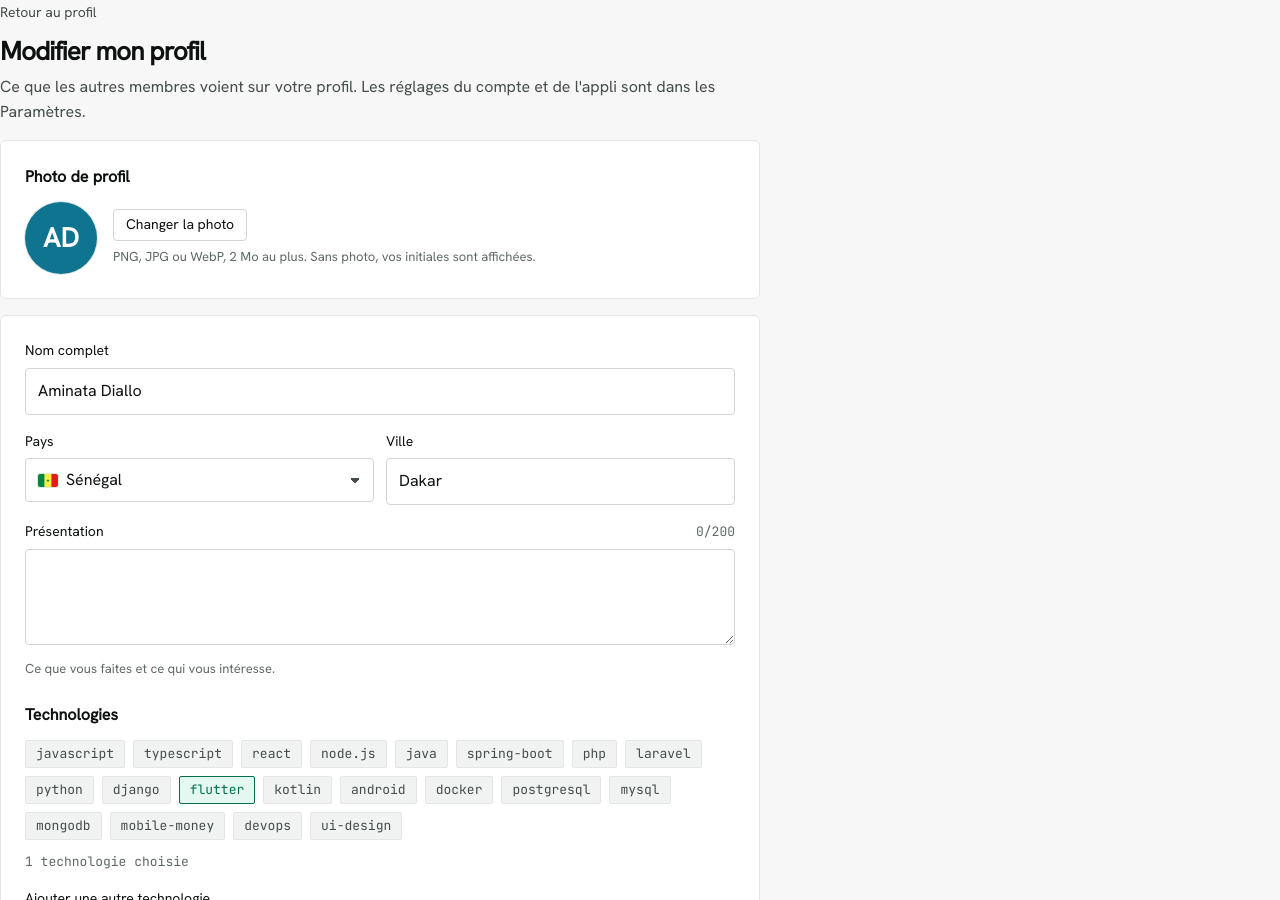
Scenario: ProfileEditPage › enregistre le profil, pays compris, puis revient au profil public
The image size is (1280, 900).
In the text box labelled "Présentation": (380, 597) [25,549,735,645], type "Développeuse Flutter à Ouagadougou."
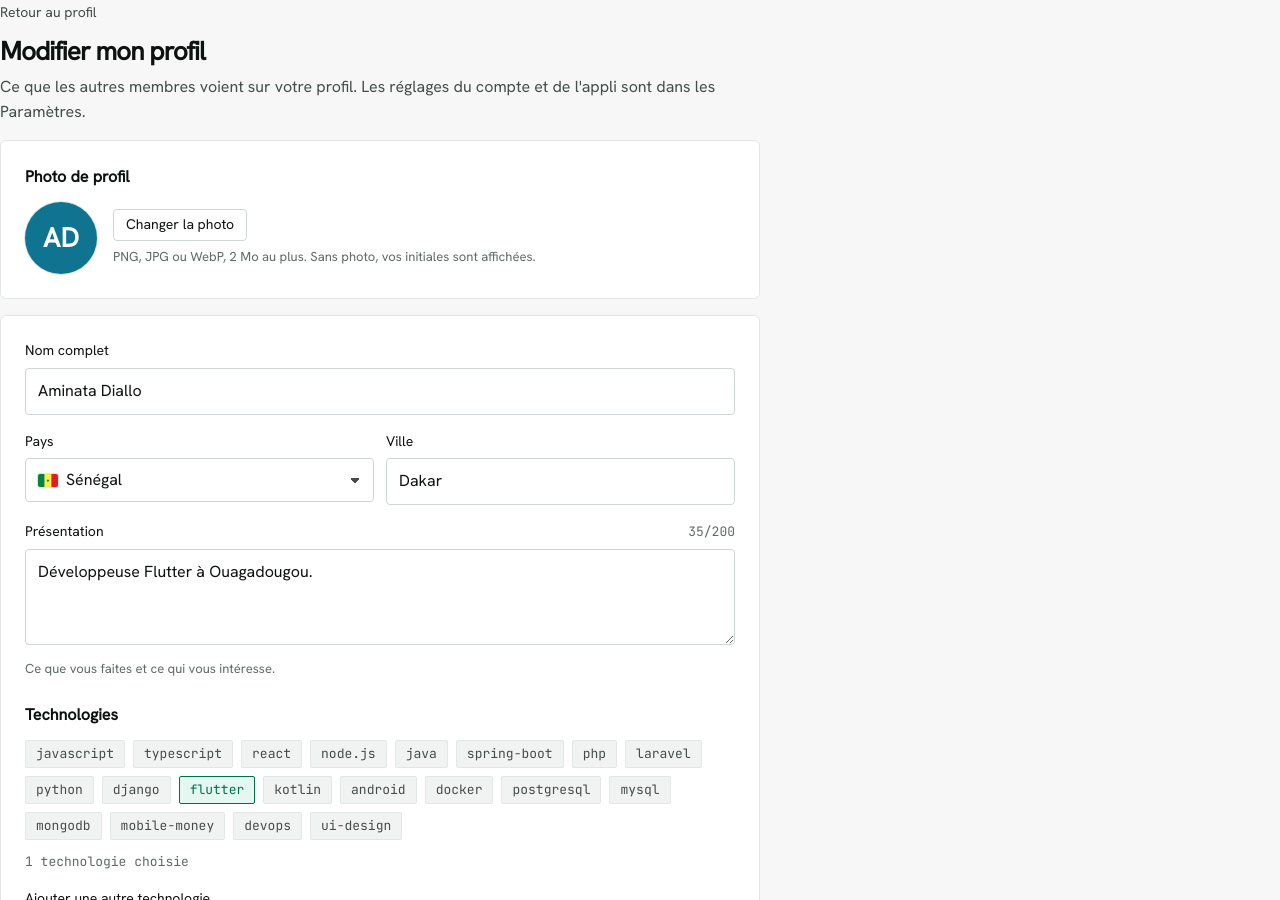
Click the dropdown named "Pays": (94, 480) [25,458,374,502]
(page scrolled)
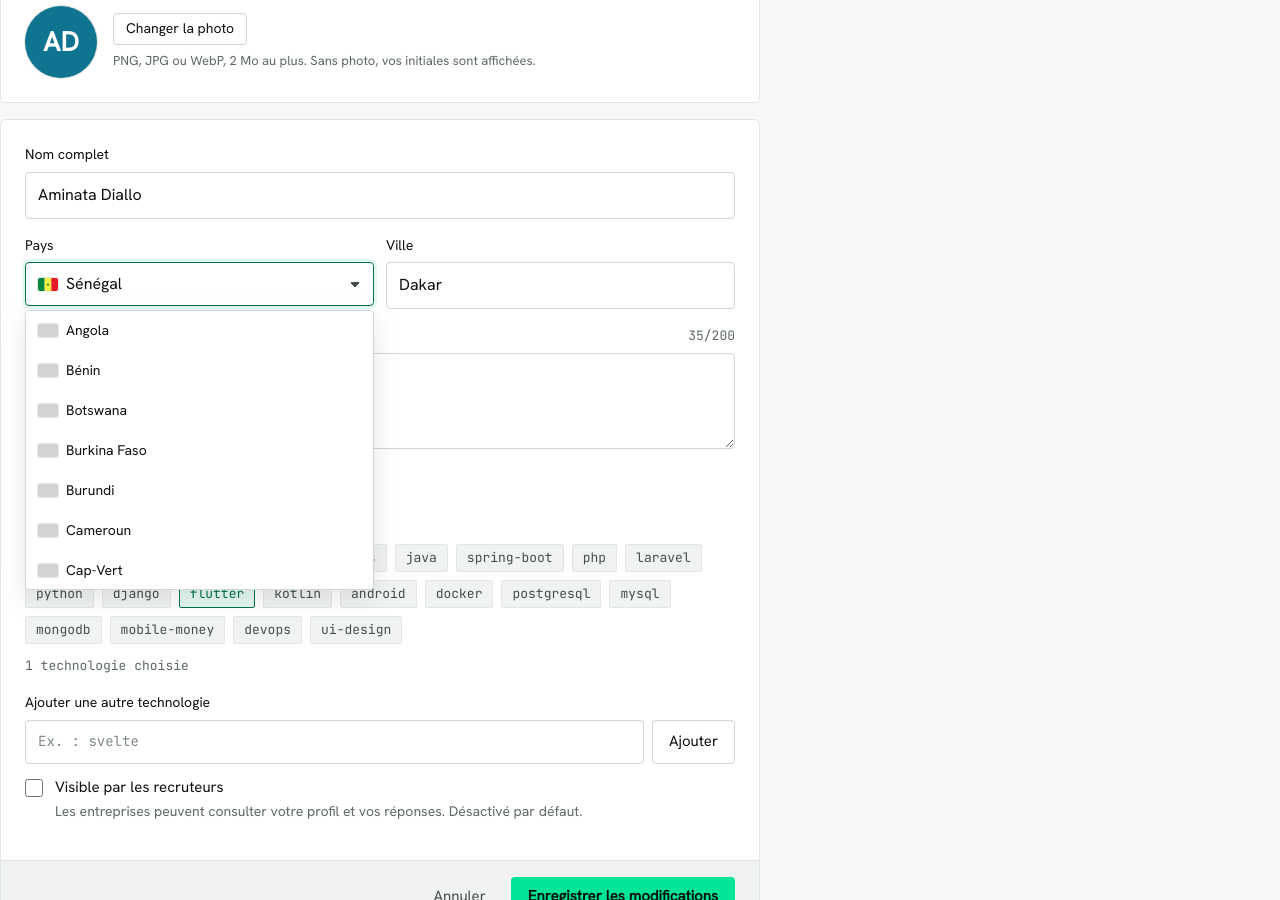
Click the option "Burkina Faso": (92, 450) [38,441,147,459]
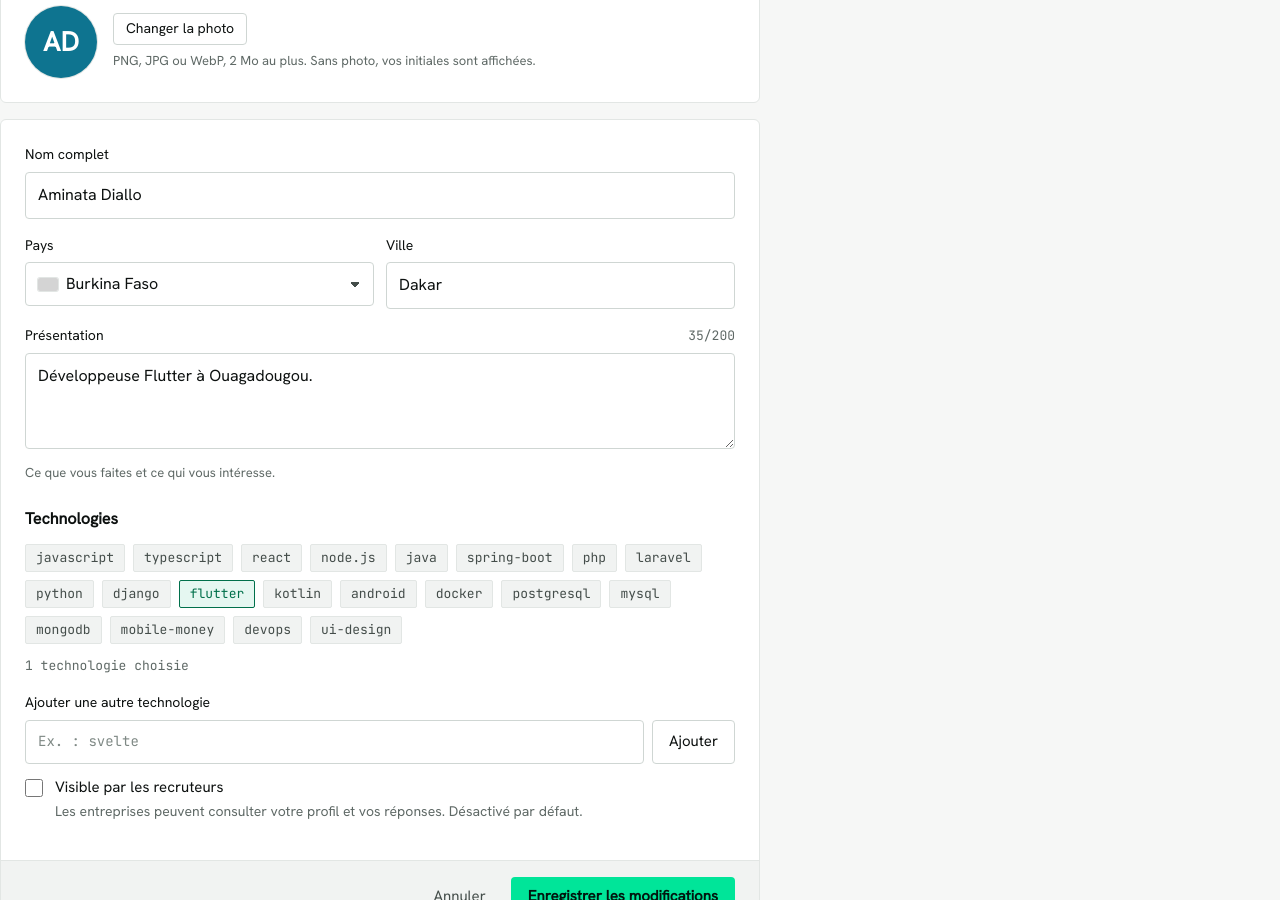
Click the checkbox labelled "Visible par les recruteurs": (34, 788) [25,779,43,797]
(page scrolled)
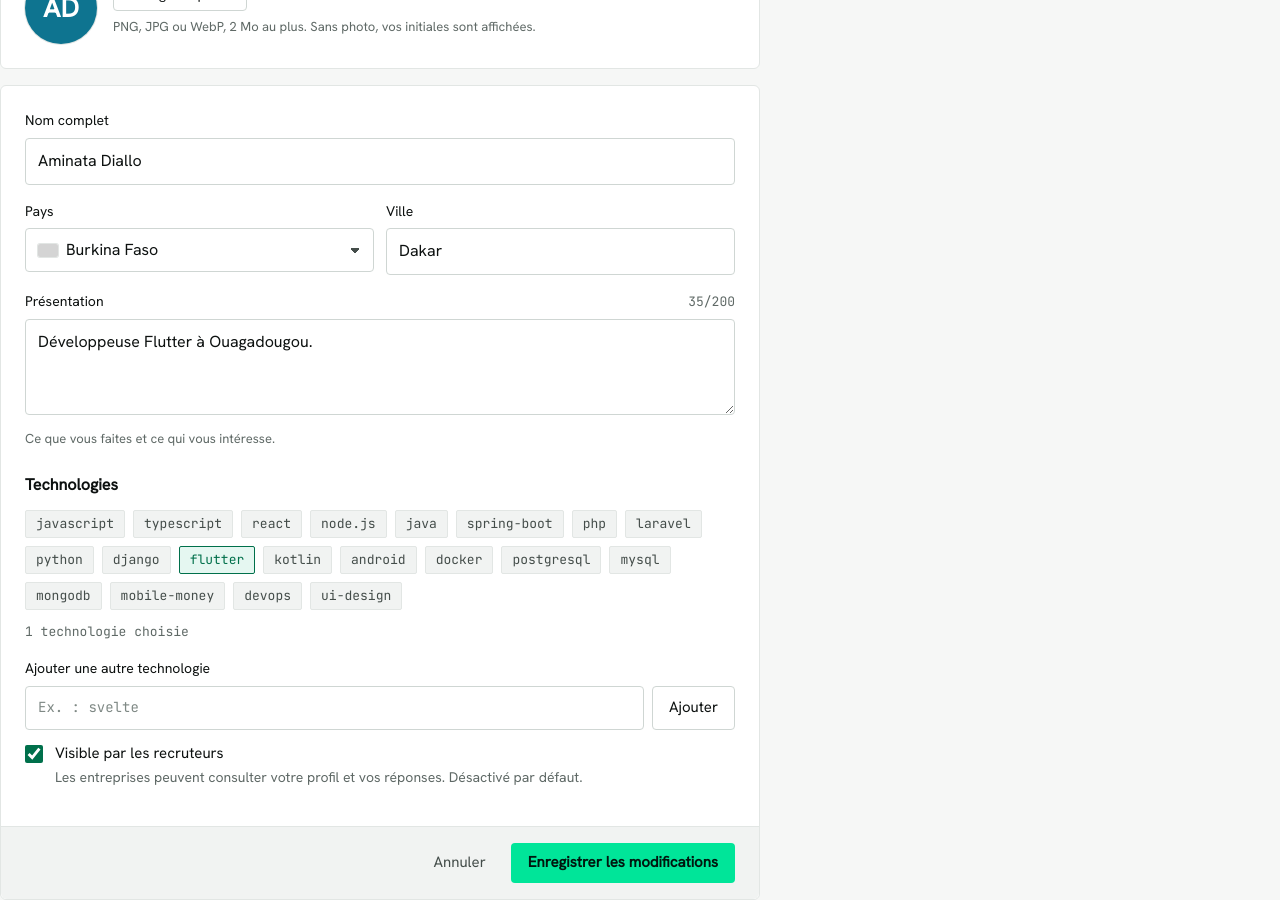
Click the button "Enregistrer les modifications": (623, 863) [511,843,735,883]
(page scrolled)
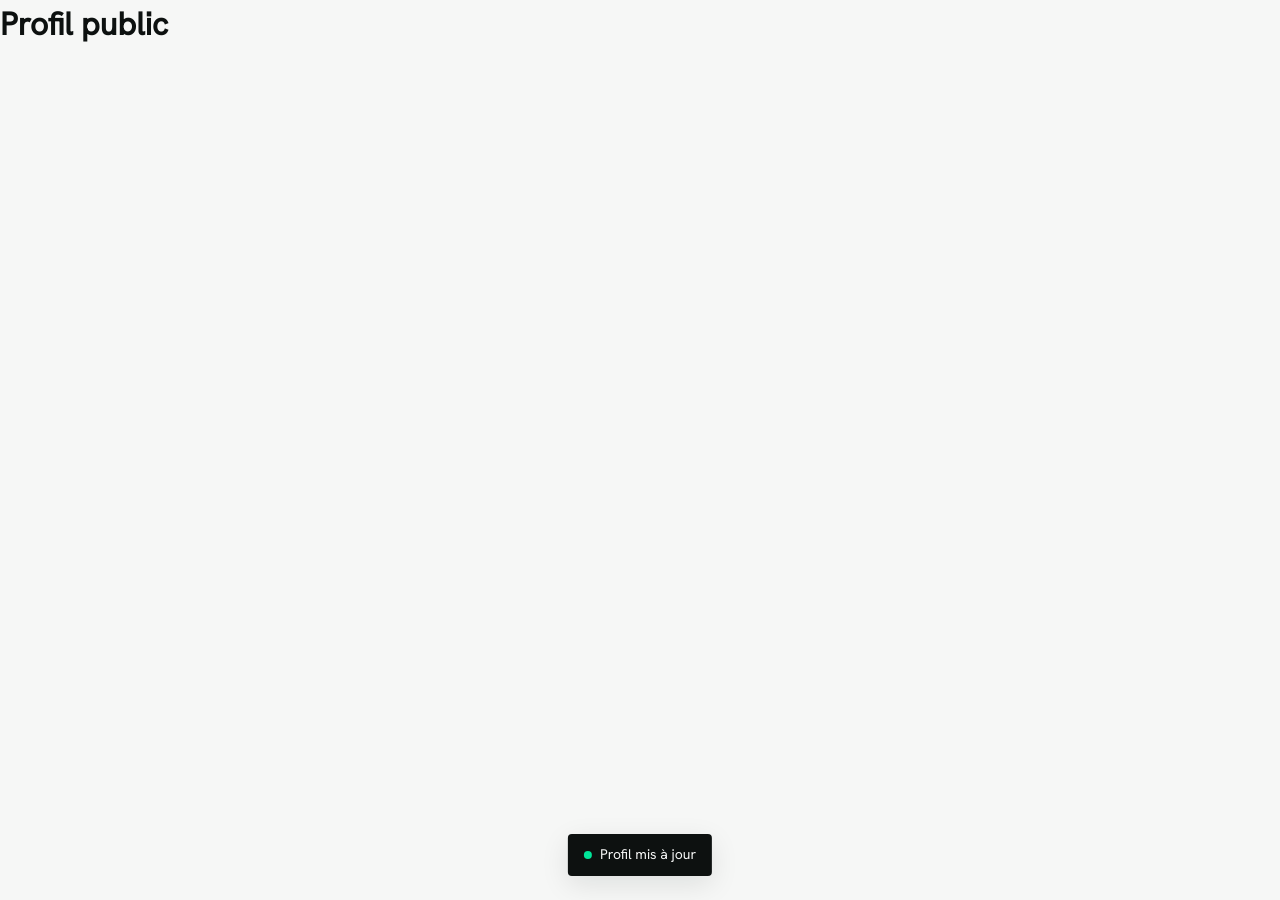
Expected: the heading "Profil public" is shown, [0,3,168,45]
